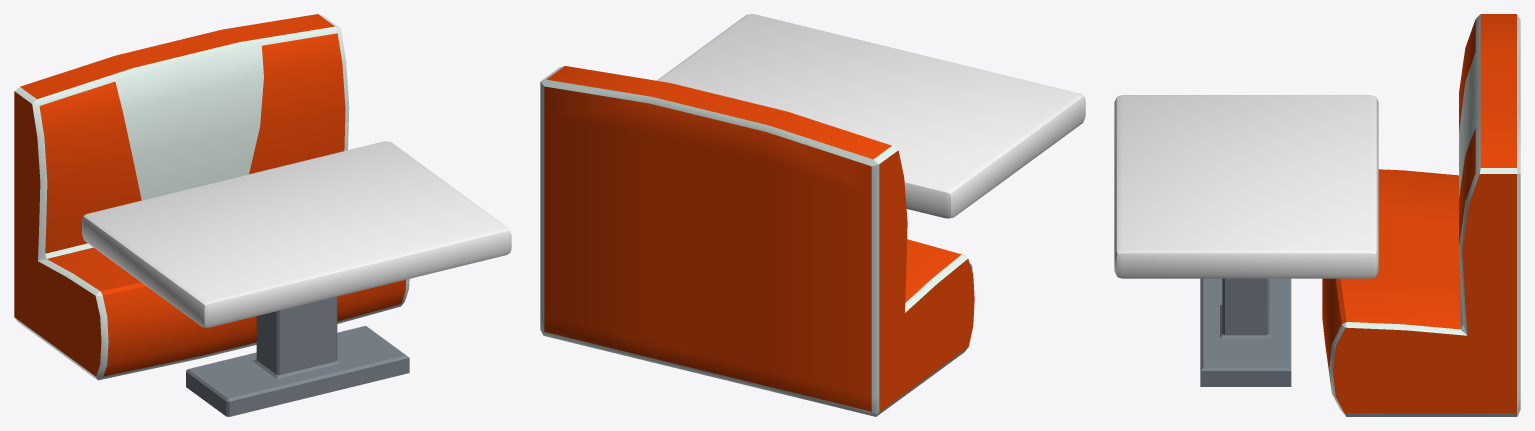
The model's file is Restaurant_Chair Long.fbx.
3 views of the same model, side by side, from view 1: azimuth 30°, elevation 25°; view 2: azimuth 150°, elevation 25°; view 3: azimuth 270°, elevation 25° (orthographic). The views are drawn at different scales.
Visible parts, largest first — view 1: Restaurant_Chair Long, Restaurant_Table Long; view 2: Restaurant_Chair Long, Restaurant_Table Long; view 3: Restaurant_Table Long, Restaurant_Chair Long.
Boxes of the visible parts, x1,y1,x2,y2 form: Restaurant_Chair Long: (14, 14, 409, 380); Restaurant_Table Long: (82, 141, 511, 416); Restaurant_Chair Long: (540, 66, 974, 416); Restaurant_Table Long: (657, 14, 1085, 270); Restaurant_Table Long: (1114, 95, 1378, 386); Restaurant_Chair Long: (1322, 14, 1520, 416).
Size of the model in its own units: 215 by 161 by 231.
